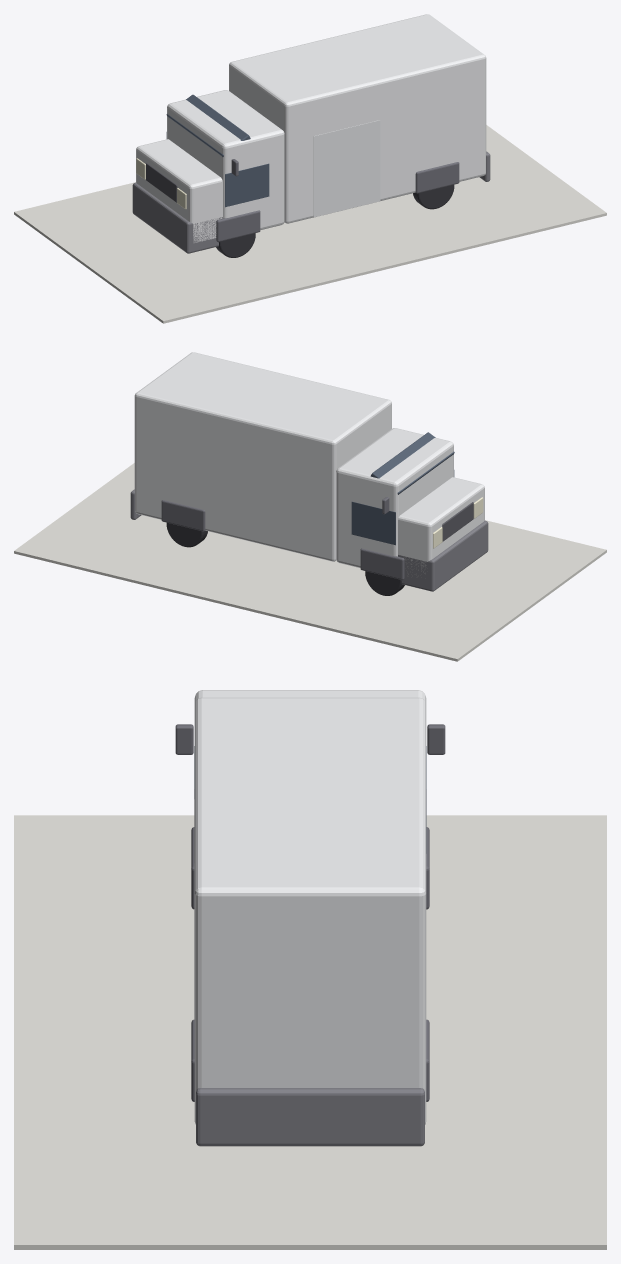
The model's file is van_real.glb.
3 views of the same model, one above another, from view 1: azimuth 30°, elevation 25°; view 2: azimuth 150°, elevation 25°; view 3: azimuth 270°, elevation 25° (orthographic). The views are drawn at different scales.
Parts seen in each view (by area): view 1: Ground, Body, Cab, Slide_Seam, Bonnet, Front_Bumper, Cab_Win_L, Arch_-1225_L, Arch_2810_L, Windscreen, Wheel_RL, Wheel_FL (+1 smaller); view 2: Ground, Body, Cab, Bonnet, Front_Bumper, Cab_Win_R, Arch_-1225_R, Arch_2810_R, Windscreen, Wheel_RR, Wheel_FR, Grille; view 3: Ground, Body, Rear_Bumper, Cab.
Part boxes in pixels (x1,y1,x2,y2): Ground: (14, 125, 606, 323); Body: (229, 14, 486, 223); Cab: (167, 90, 284, 229); Slide_Seam: (313, 120, 380, 217); Bonnet: (136, 139, 222, 242); Front_Bumper: (132, 182, 222, 253); Cab_Win_L: (225, 163, 269, 207); Arch_-1225_L: (216, 210, 260, 241); Arch_2810_L: (415, 162, 459, 193); Windscreen: (166, 94, 250, 156); Wheel_RL: (413, 184, 454, 209); Wheel_FL: (216, 233, 255, 257); Ground: (14, 463, 606, 661); Body: (134, 352, 391, 561); Cab: (336, 428, 453, 567); Bonnet: (398, 477, 484, 574); Front_Bumper: (398, 520, 488, 591); Cab_Win_R: (351, 501, 395, 545); Arch_-1225_R: (360, 548, 404, 579); Arch_2810_R: (161, 500, 205, 531); Windscreen: (370, 432, 454, 494); Wheel_RR: (166, 522, 207, 547); Wheel_FR: (365, 571, 404, 595); Grille: (442, 502, 473, 541); Ground: (14, 815, 606, 1249); Body: (194, 697, 426, 1124); Rear_Bumper: (196, 1088, 424, 1146); Cab: (194, 690, 426, 703).
Bounding box in the file's own units: 9 × 2.81 × 5.25.
